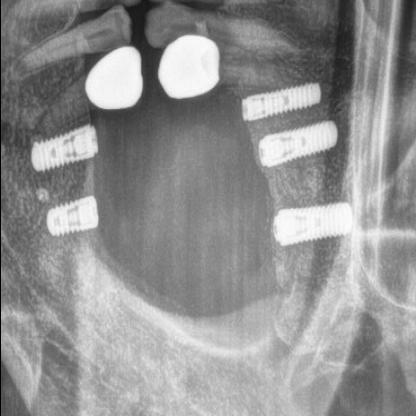ITI: (240, 80, 328, 124), (256, 121, 338, 166), (272, 201, 355, 245), (31, 122, 99, 172), (45, 194, 100, 235)
